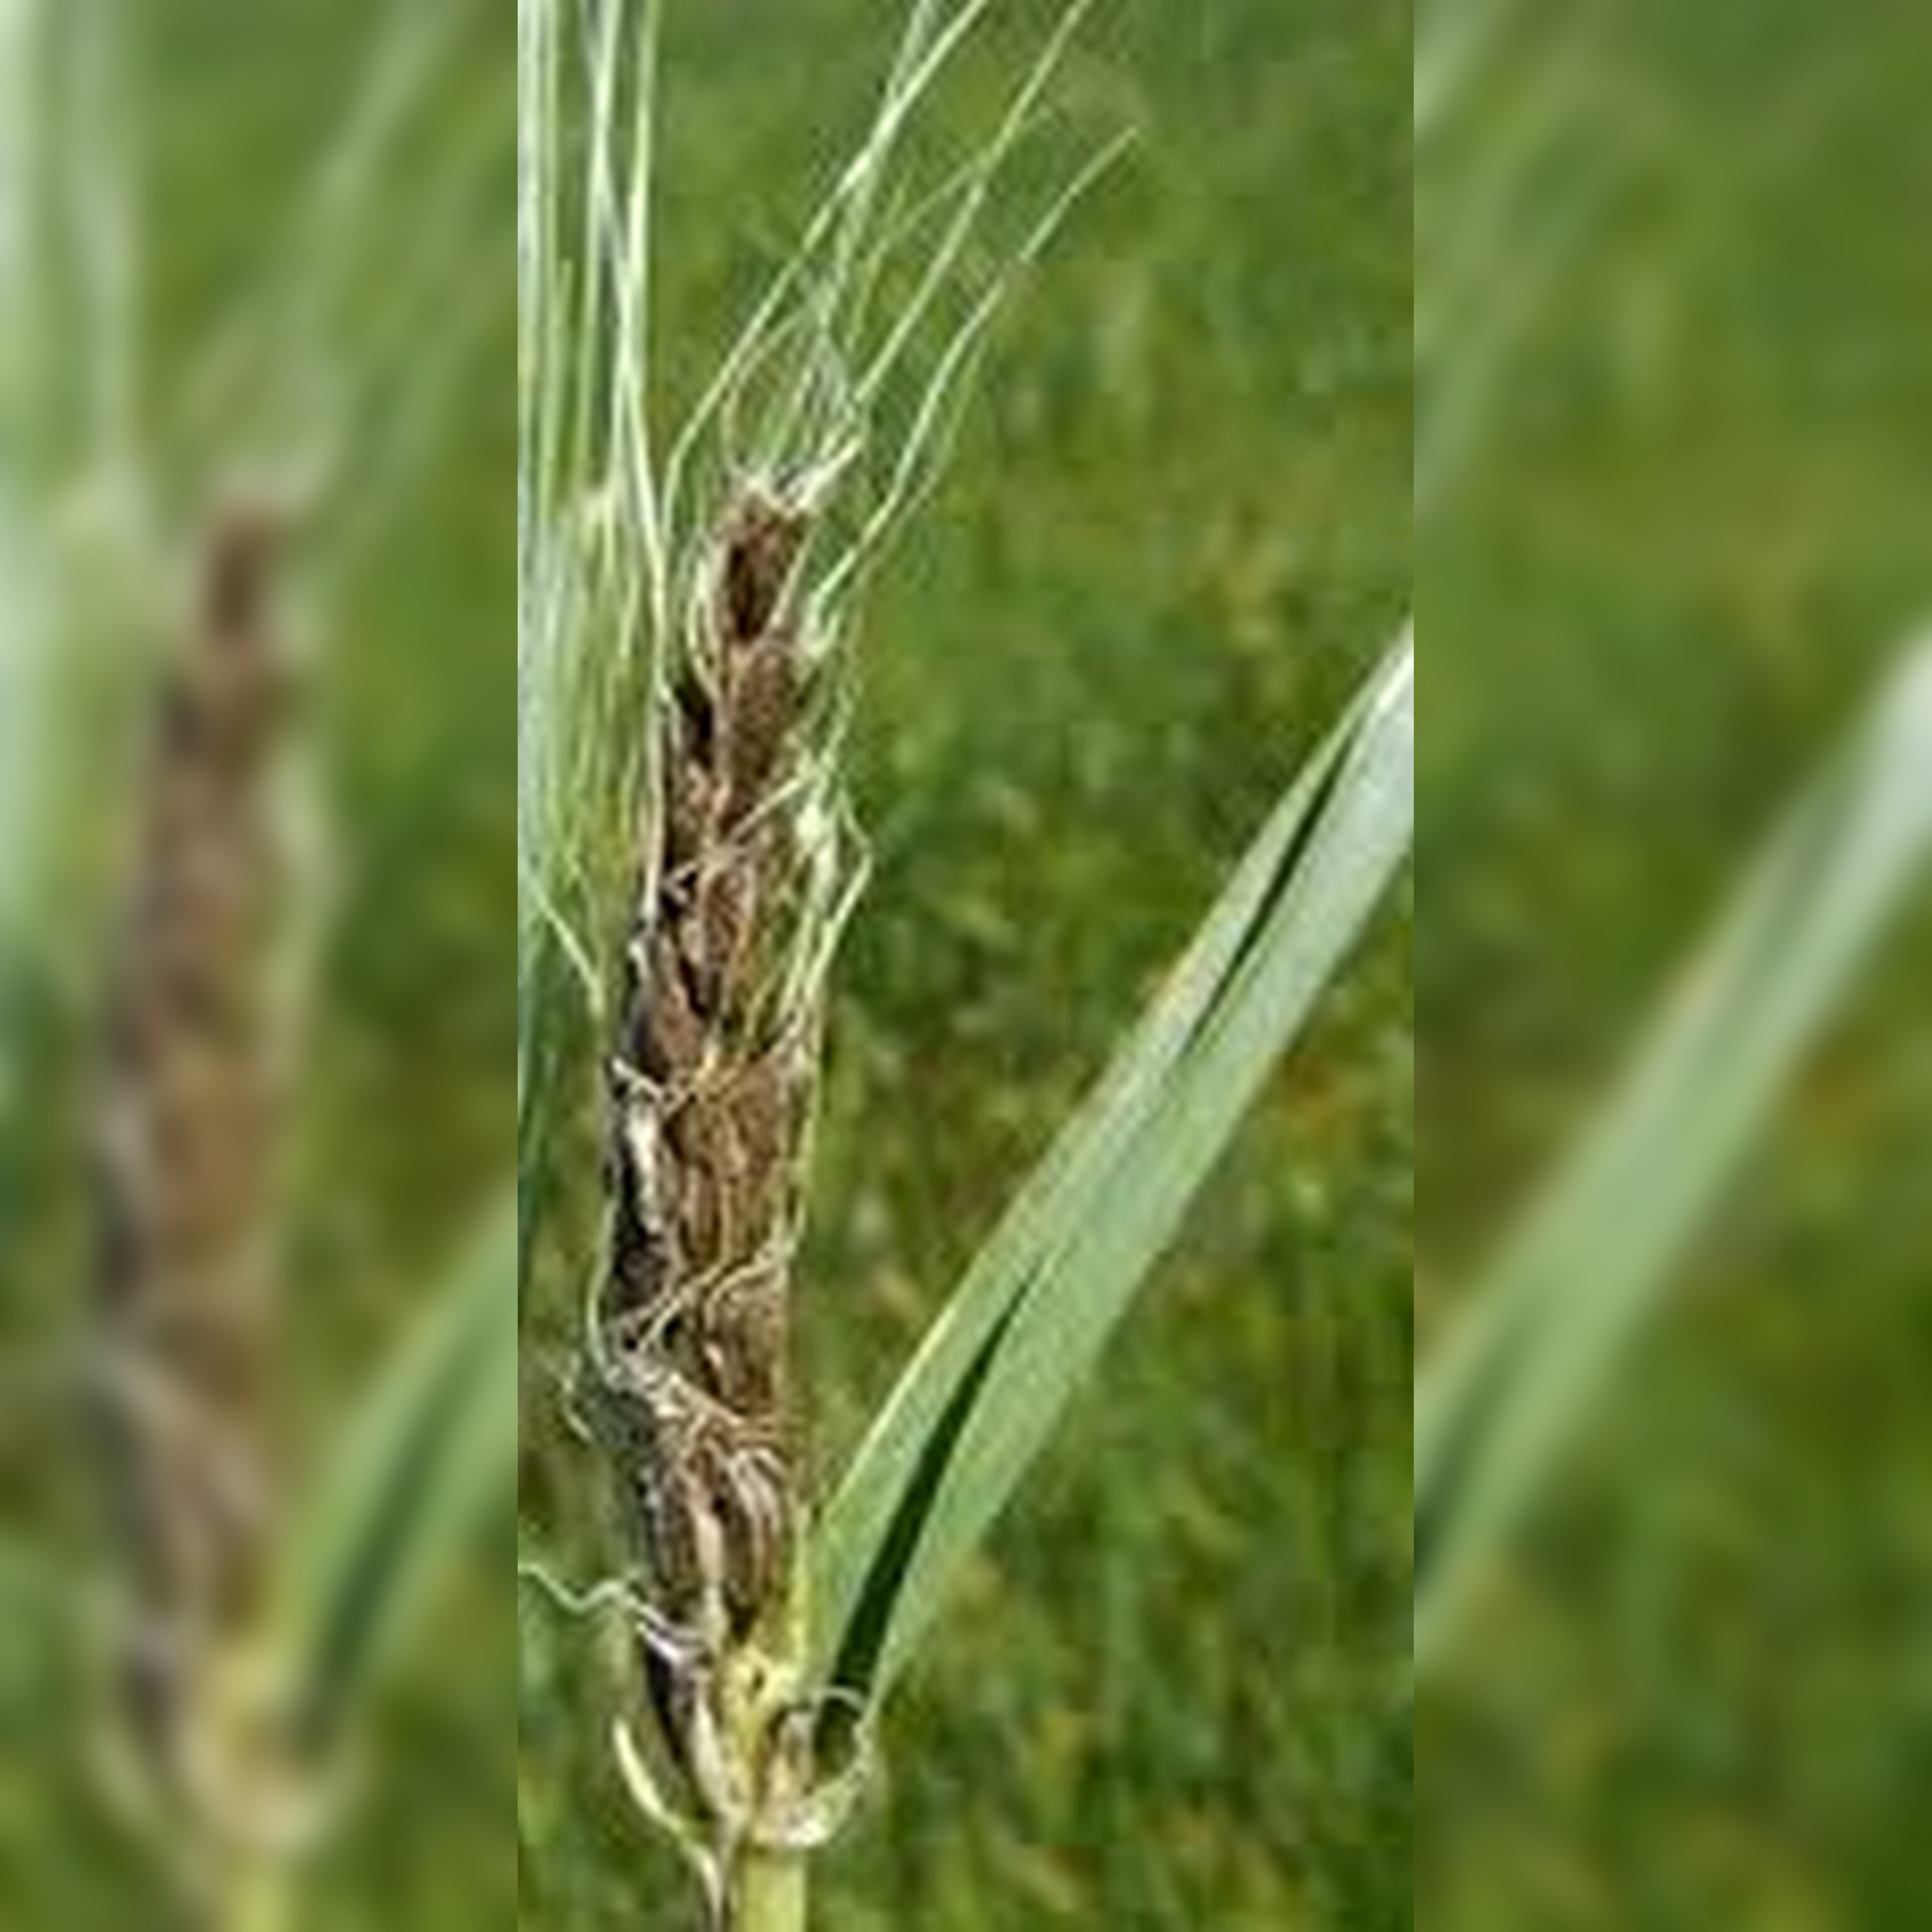Wheat Loose Smut: (596, 449, 856, 1635)
